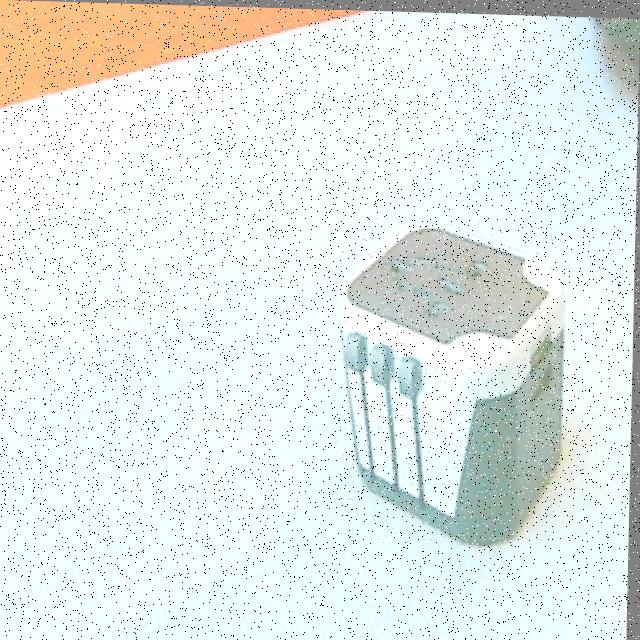adapter: (335, 215, 568, 544)
